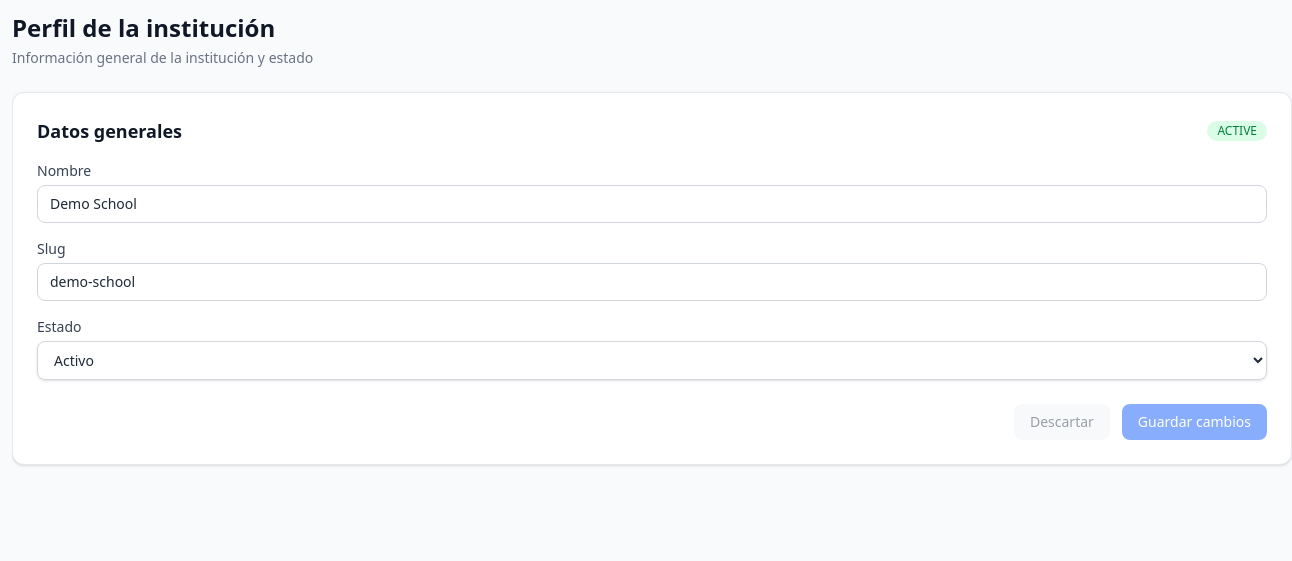
Scenario: InstitutionProfilePage › saves changes
Replace the text in the field showing "Demo School" with "Nuevo Nombre". click: point(652, 204)
box: [37,185,1267,223]
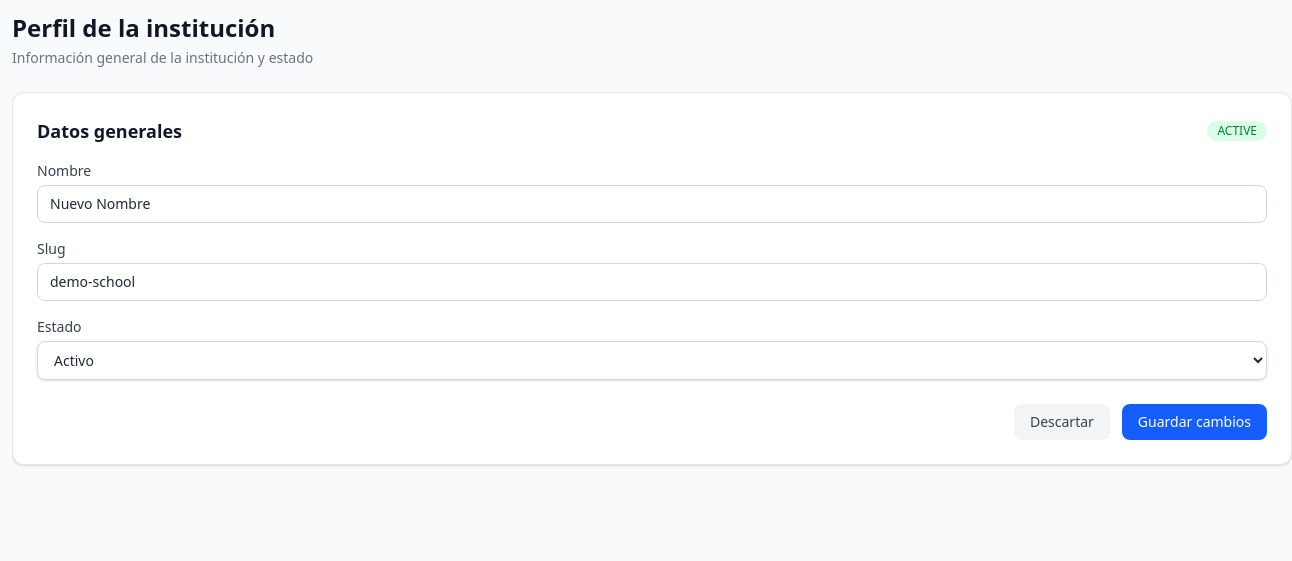
Click the button "Guardar cambios". click: point(1194, 422)
box: [1122,404,1267,440]
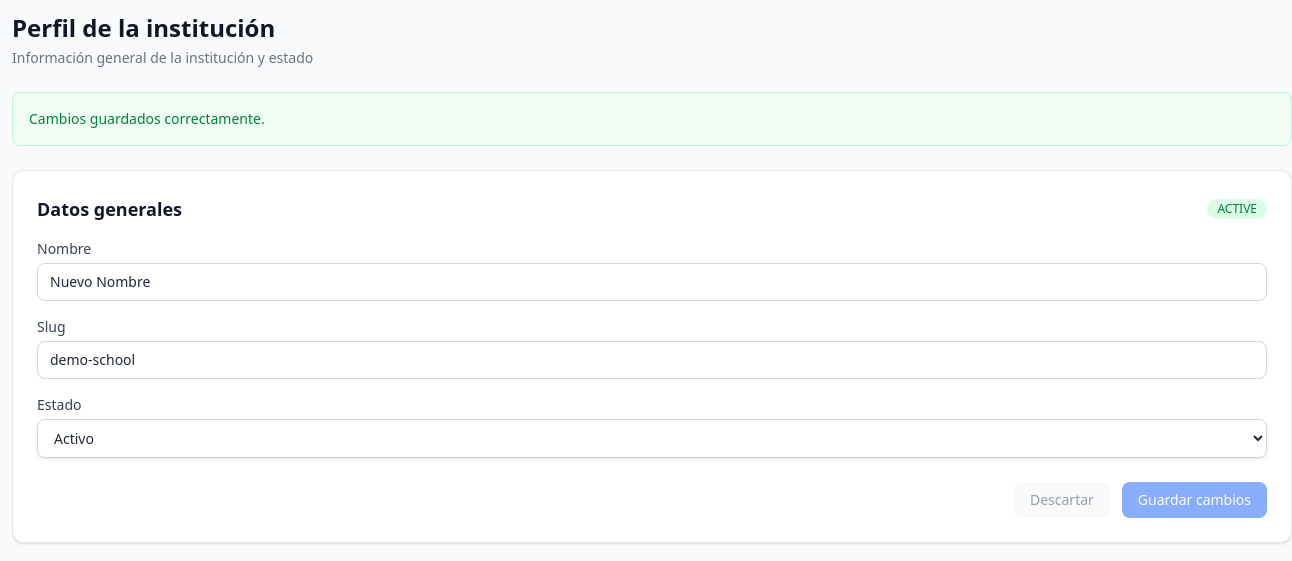
Check: the text "Cambios guardados correctamente." is shown, box [29,109,265,128]
